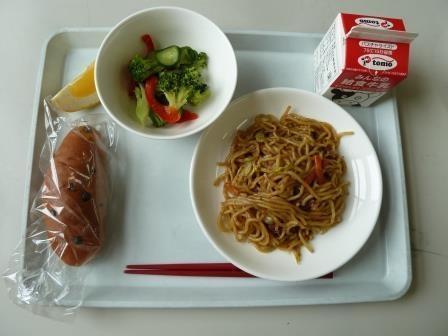Bread: (27, 110, 130, 272)
Citrus: (45, 54, 102, 110)
Fried noodles: (216, 125, 351, 247)
Milk: (317, 10, 425, 109)
salad fresh: (96, 9, 237, 126)
